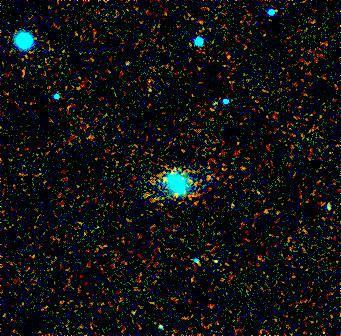star: (188, 167, 218, 197)
